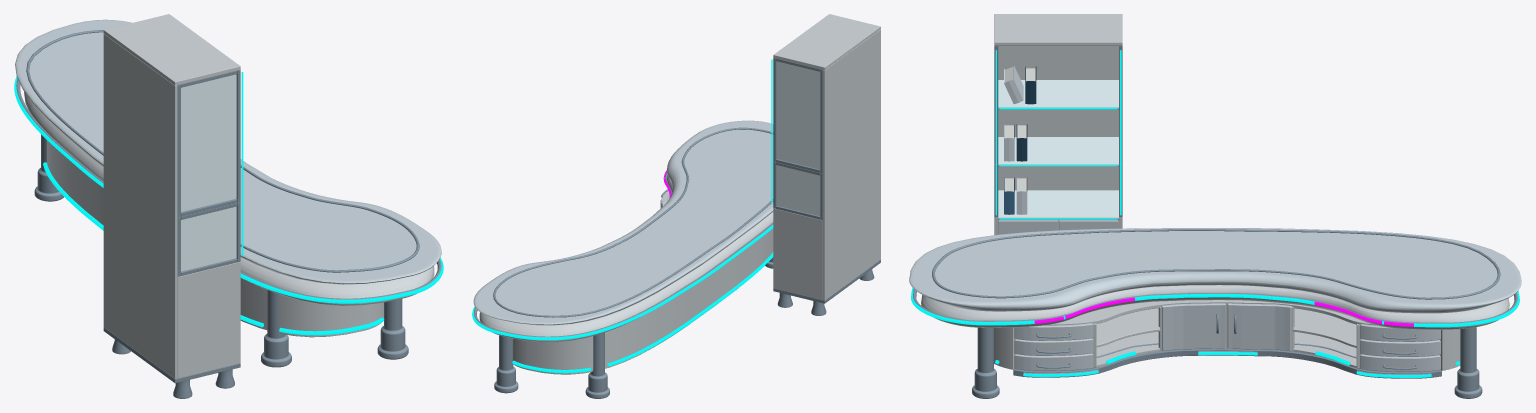
The model's file is table1_final.fbx.
3 renders of one model, left to right at view 1: azimuth 30°, elevation 25°; view 2: azimuth 150°, elevation 25°; view 3: azimuth 270°, elevation 25°, orthographic. The views are drawn at different scales.
Parts seen in each view (by area): view 1: BézierCurve, Cabinet_Straight_Back, Cabinet_Left_Upper_Glass_Inset, Cabinet_Left_Straight_Wall_Lower, Carcass_Curved_Sides_Back_and_Open_Bay_Jambs, Cabinet_Flat_Top, BézierCurve.001, Cabinet_Left_Middle_Glass_Inset, BézierCurve.006, Cabinet_Left_Straight_Wall_Upper, Table_Perimeter_Cyan_Wrap, Light_Cyan_Lower_Sides_and_Rear (+9 smaller); view 2: BézierCurve, Cabinet_Straight_Back, Carcass_Curved_Sides_Back_and_Open_Bay_Jambs, Cabinet_Right_Upper_Glass_Inset, Cabinet_Right_Straight_Wall_Lower, BézierCurve.001, Cabinet_Flat_Top, Cabinet_Right_Middle_Glass_Inset, BézierCurve.006, Table_Perimeter_Cyan_Wrap, Light_Cyan_Lower_Sides_and_Rear, Cabinet_Right_Straight_Wall_Upper (+7 smaller); view 3: BézierCurve, Cabinet_Straight_Back, BézierCurve.001, Cabinet_Flat_Top, Carcass_Curved_Sides_Back_and_Open_Bay_Jambs, BézierCurve.006, Cabinet_Shelf_Lower, Right_Central_Curved_Door, Left_Central_Curved_Door, Cabinet_Shelf_Middle, Cabinet_Shelf_Upper, Continuous_Recessed_Curved_Plinth (+18 smaller).
Boxes of the visible parts, left/top/right/bottom form: BézierCurve: left=15, top=19, right=441, bottom=284; Cabinet_Straight_Back: left=103, top=34, right=177, bottom=379; Cabinet_Left_Upper_Glass_Inset: left=181, top=74, right=236, bottom=212; Cabinet_Left_Straight_Wall_Lower: left=177, top=261, right=240, bottom=378; Carcass_Curved_Sides_Back_and_Open_Bay_Jambs: left=47, top=140, right=383, bottom=335; Cabinet_Flat_Top: left=103, top=14, right=240, bottom=85; BézierCurve.001: left=24, top=92, right=434, bottom=305; Cabinet_Left_Middle_Glass_Inset: left=181, top=206, right=236, bottom=271; BézierCurve.006: left=26, top=30, right=419, bottom=272; Cabinet_Left_Straight_Wall_Upper: left=177, top=70, right=240, bottom=217; Table_Perimeter_Cyan_Wrap: left=14, top=77, right=443, bottom=303; Light_Cyan_Lower_Sides_and_Rear: left=43, top=162, right=384, bottom=335; BézierCurve: left=473, top=120, right=773, bottom=325; Cabinet_Straight_Back: left=822, top=29, right=880, bottom=300; Carcass_Curved_Sides_Back_and_Open_Bay_Jambs: left=513, top=192, right=773, bottom=373; Cabinet_Right_Upper_Glass_Inset: left=776, top=61, right=820, bottom=169; Cabinet_Right_Straight_Wall_Lower: left=773, top=208, right=822, bottom=299; BézierCurve.001: left=479, top=175, right=773, bottom=342; Cabinet_Flat_Top: left=773, top=14, right=880, bottom=70; Cabinet_Right_Middle_Glass_Inset: left=776, top=165, right=820, bottom=215; BézierCurve.006: left=493, top=127, right=773, bottom=317; Table_Perimeter_Cyan_Wrap: left=472, top=177, right=773, bottom=340; Light_Cyan_Lower_Sides_and_Rear: left=512, top=252, right=773, bottom=373; Cabinet_Right_Straight_Wall_Upper: left=773, top=58, right=822, bottom=173; BézierCurve: left=909, top=228, right=1521, bottom=313; Cabinet_Straight_Back: left=998, top=46, right=1118, bottom=234; BézierCurve.001: left=921, top=285, right=1509, bottom=329; Cabinet_Flat_Top: left=994, top=14, right=1122, bottom=45; Carcass_Curved_Sides_Back_and_Open_Bay_Jambs: left=994, top=300, right=1460, bottom=368; BézierCurve.006: left=932, top=229, right=1500, bottom=299; Cabinet_Shelf_Lower: left=998, top=190, right=1118, bottom=218; Right_Central_Curved_Door: left=1227, top=303, right=1292, bottom=351; Left_Central_Curved_Door: left=1161, top=303, right=1225, bottom=350; Cabinet_Shelf_Middle: left=998, top=137, right=1118, bottom=165; Cabinet_Shelf_Upper: left=998, top=80, right=1118, bottom=108; Continuous_Recessed_Curved_Plinth: left=1013, top=348, right=1441, bottom=378.
Size of the model in its own units: 252 by 301 by 583.
